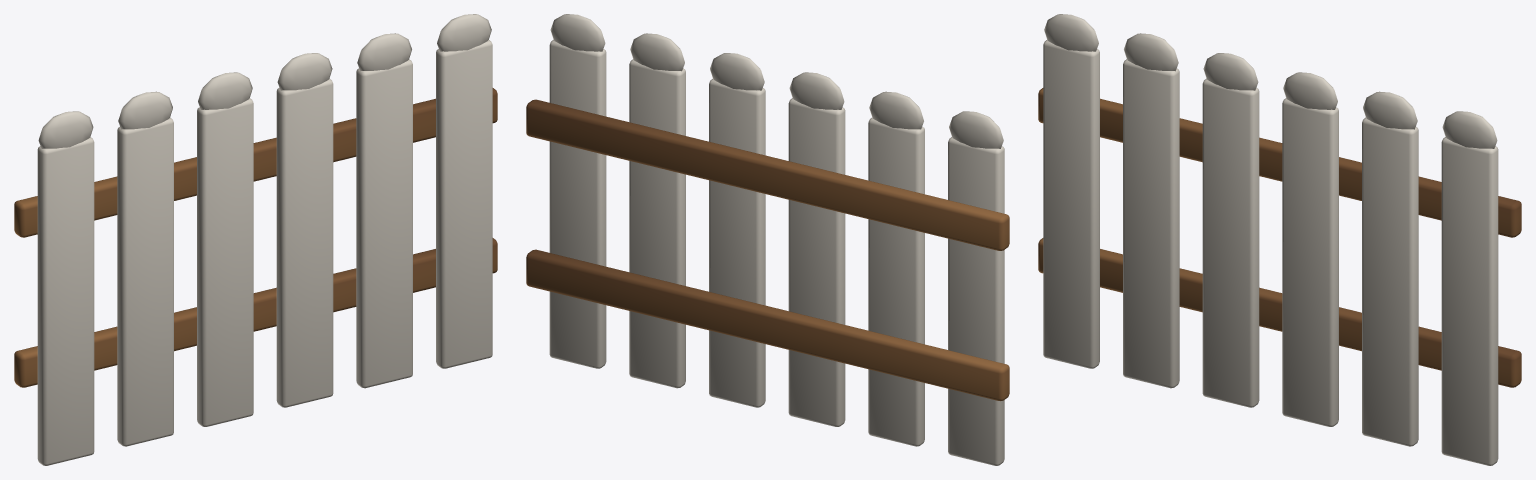
File: zaunfeld.glb
3 renders of one model, left to right at view 1: azimuth 30°, elevation 25°; view 2: azimuth 150°, elevation 25°; view 3: azimuth 330°, elevation 25°, orthographic.
Parts seen in each view (by area): view 1: zaunfeld-matt; view 2: zaunfeld-matt; view 3: zaunfeld-matt.
Part boxes in pixels (box(x1,y1,x2,y2)): zaunfeld-matt: box(14, 14, 497, 465); zaunfeld-matt: box(526, 14, 1009, 465); zaunfeld-matt: box(1038, 14, 1521, 465).
Size of the model in its own units: 1.2 by 0.8325 by 0.0787.
